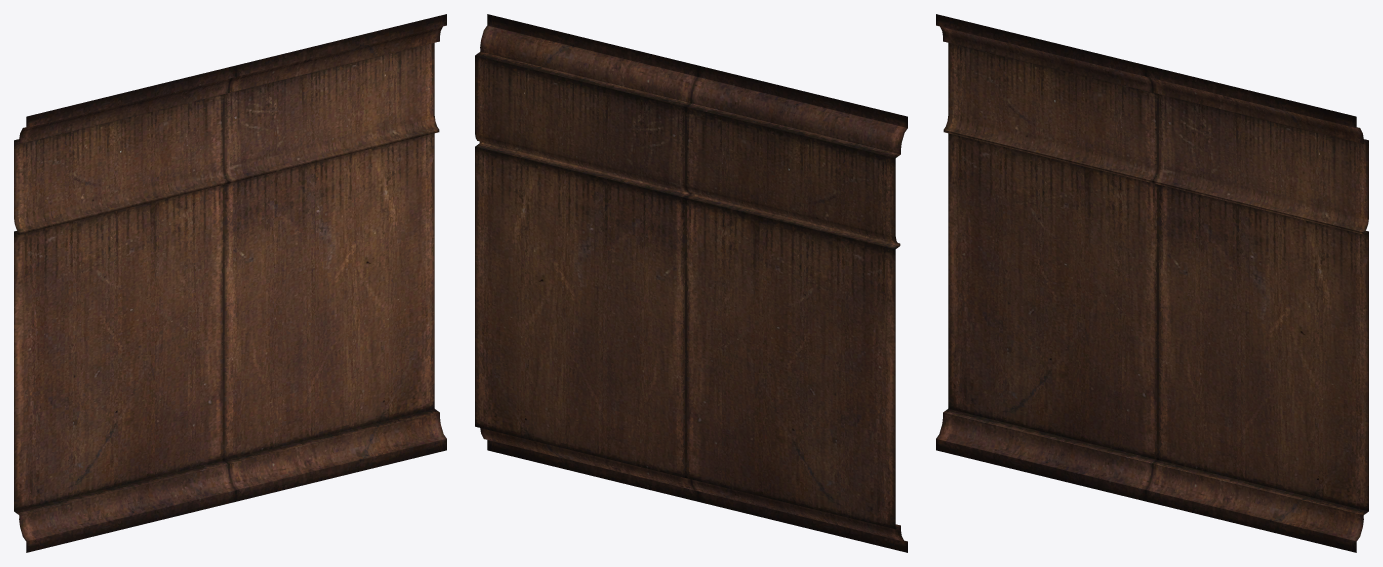
Rendered from default_extension.dae.
The picture shows the model from 3 angles, left to right: view 1: azimuth 30°, elevation 25°; view 2: azimuth 150°, elevation 25°; view 3: azimuth 330°, elevation 25°; orthographic projection.
Visible parts, largest first — view 1: mansionbase_wall_extension; view 2: mansionbase_wall_extension; view 3: mansionbase_wall_extension.
Part boxes in pixels (box(x1,y1,x2,y2)): mansionbase_wall_extension: box(14, 14, 446, 552); mansionbase_wall_extension: box(475, 14, 907, 552); mansionbase_wall_extension: box(936, 14, 1368, 552).
Bounding box in the file's own units: 4 × 3.96 × 0.2011.
